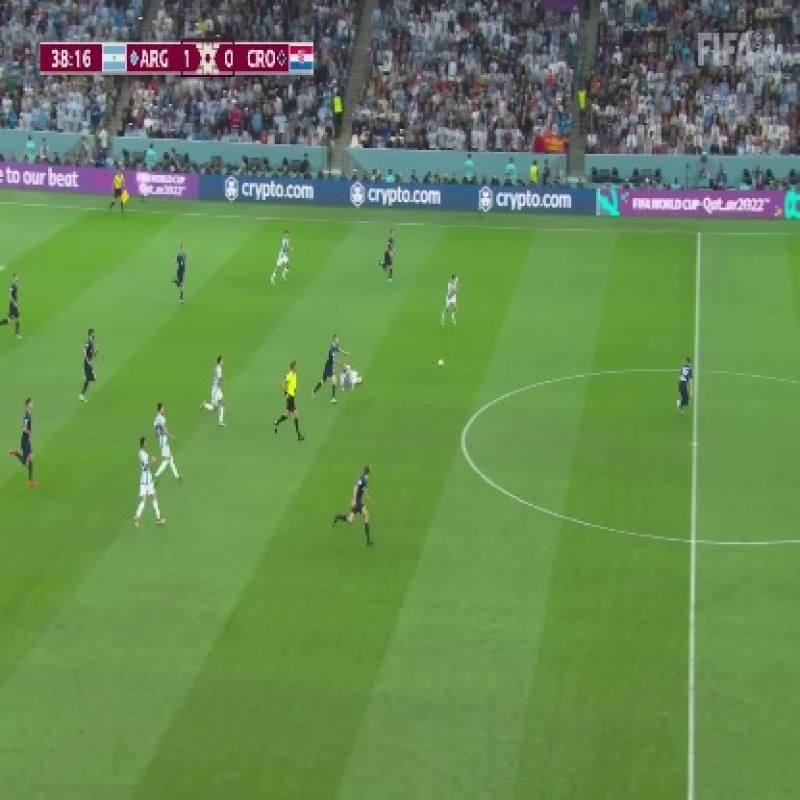13: (688, 219, 710, 246)
14: (684, 356, 710, 386)
15: (677, 521, 708, 558)
9: (0, 254, 12, 275)
c: (450, 416, 478, 463)
